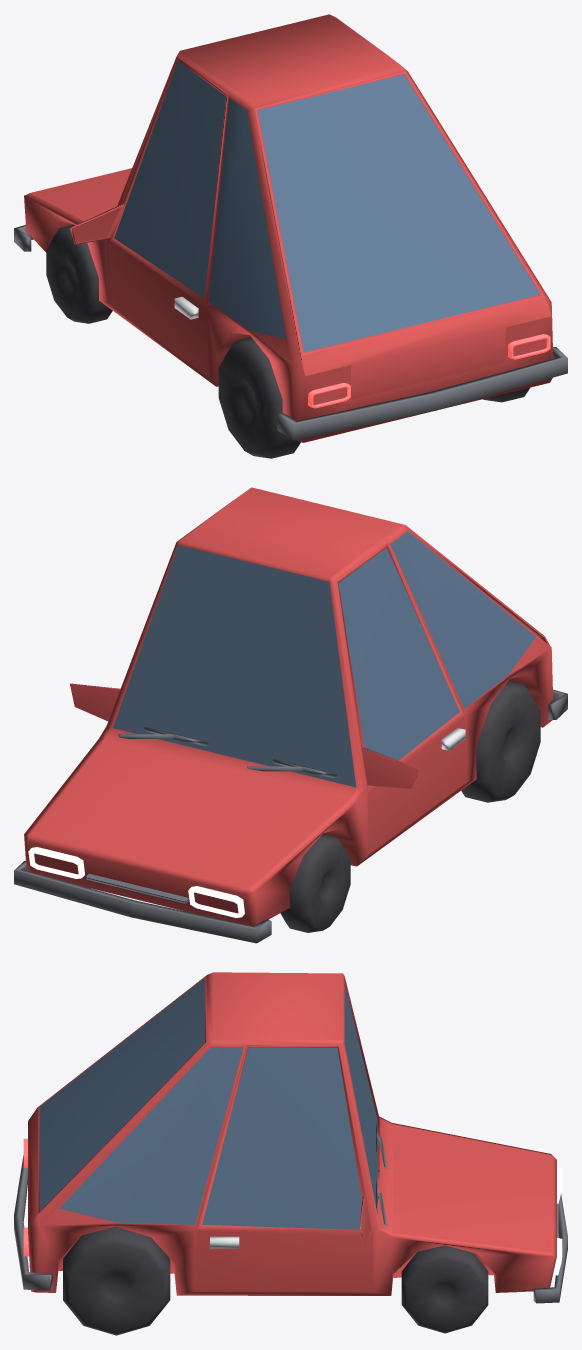
The model's file is cv-hatchback.glb.
3 renders of one model, top to bottom at view 1: azimuth 30°, elevation 25°; view 2: azimuth 150°, elevation 25°; view 3: azimuth 270°, elevation 25°, orthographic. The views are drawn at different scales.
Visible parts, largest first — view 1: Window.3, CarMesh, Window.2, ID226, WindowL, ID181, WheelRL, BumperRear, WheelFL, Hood, ID199, Mirror.2; view 2: WindowFront.1, CarMesh, Hood, Window.2, WindowL, ID181, WheelRL, WheelFL, BumperFront, ID199, ID154, ID382 (+5 smaller); view 3: CarMesh, Window, Hood, WindowR, Window.3, ID136, WheelRR, WheelFR, WindowFront.1, ID226, BumperRear, BumperFront.
Part boxes in pixels (x1,y1,x2,y2): Window.3: (257, 74, 540, 352); CarMesh: (24, 14, 553, 442); Window.2: (114, 61, 225, 297); ID226: (254, 71, 551, 399); WindowL: (208, 98, 286, 339); ID181: (108, 56, 227, 373); WheelRL: (218, 337, 300, 458); BumperRear: (277, 347, 567, 439); WheelFL: (46, 225, 112, 323); Hood: (30, 168, 131, 221); ID199: (70, 203, 124, 244); Mirror.2: (72, 222, 110, 242); WindowFront.1: (113, 545, 355, 787); CarMesh: (24, 487, 552, 925); Hood: (30, 739, 348, 888); Window.2: (338, 547, 459, 760); WindowL: (390, 531, 535, 708); ID181: (336, 543, 466, 853); WheelRL: (461, 681, 540, 802); WheelFL: (280, 834, 350, 932); BumperFront: (14, 861, 271, 943); ID199: (361, 747, 420, 788); ID154: (70, 683, 120, 721); ID382: (28, 847, 84, 878); CarMesh: (28, 972, 556, 1295); Window: (202, 1047, 361, 1229); Hood: (393, 1124, 551, 1252); WindowR: (59, 1047, 243, 1224); Window.3: (39, 978, 204, 1211); ID136: (195, 1045, 372, 1291); WheelRR: (63, 1226, 170, 1335); WheelFR: (401, 1245, 488, 1333); WindowFront.1: (344, 984, 377, 1214); ID226: (28, 975, 206, 1229); BumperRear: (14, 1155, 52, 1290); BumperFront: (533, 1193, 567, 1303).
Bounding box in the file's own units: 2.2 × 1.81 × 3.32.
